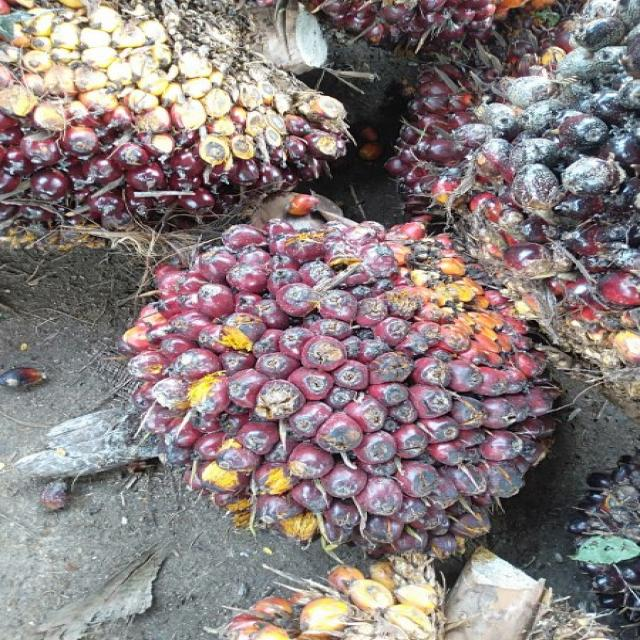fraksi 1: (85, 168, 596, 606)
